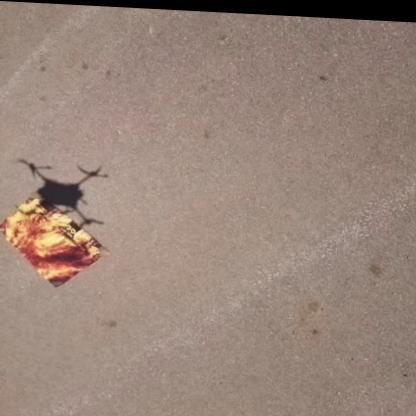fire-poster: (0, 191, 109, 288)
